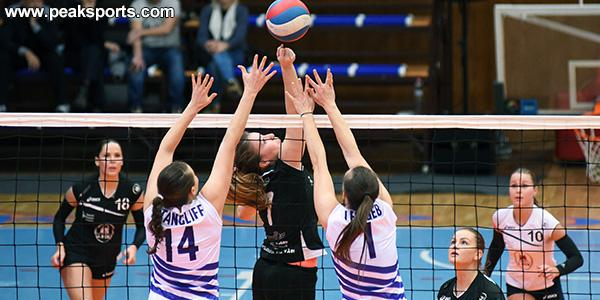ballon_volley: (266, 0, 311, 43)
